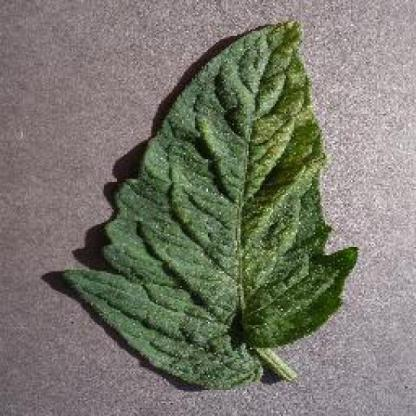Tomato_Spider_Mites: (66, 20, 357, 386)
